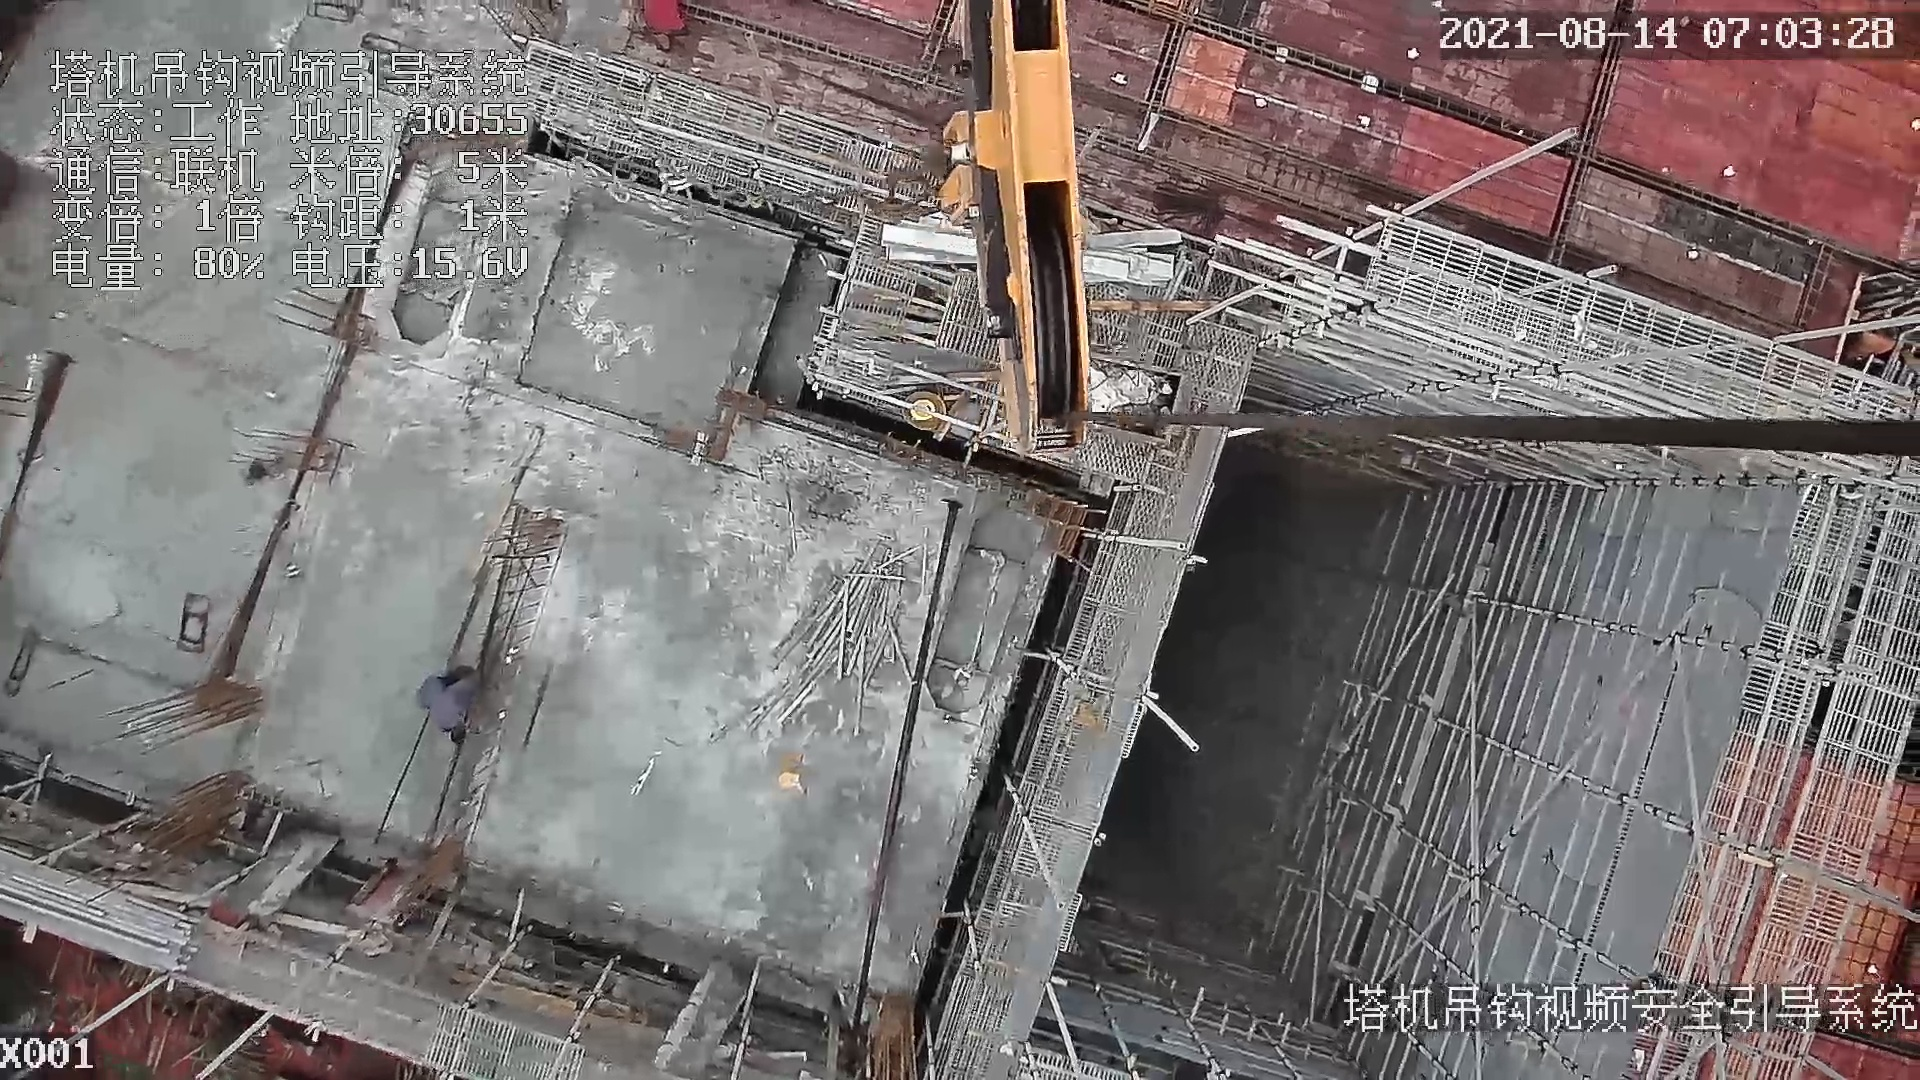hook: (927, 1, 1105, 455)
person: (417, 667, 488, 754)
